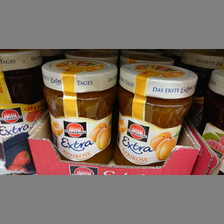jam: (114, 62, 199, 166), (40, 58, 116, 164)
